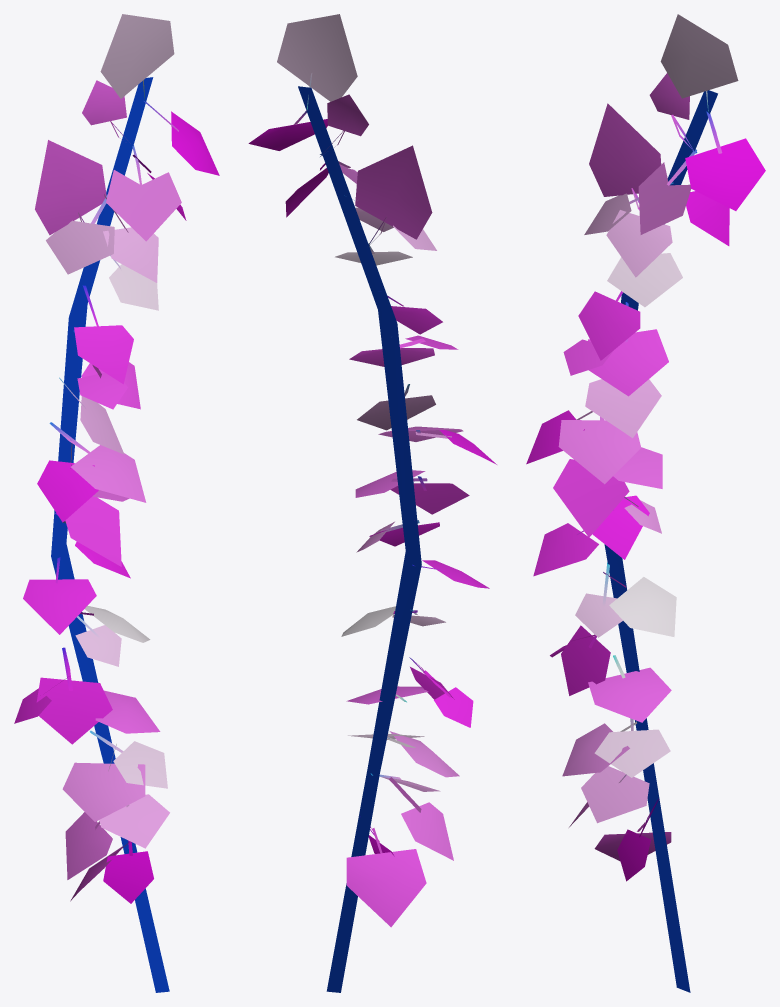
The model's file is English_Ivy_xfcnebhqx_Mid_xfcnebhqx_VarC_LOD2.fbx.
The picture shows the model from 3 angles, left to right: view 1: azimuth 30°, elevation 25°; view 2: azimuth 150°, elevation 25°; view 3: azimuth 330°, elevation 25°; orthographic projection. The views are drawn at different scales.
Visible parts, largest first — view 1: _7v7j_VarC_LOD4; view 2: _7v7j_VarC_LOD4; view 3: _7v7j_VarC_LOD4.
Boxes of the visible parts, x1,y1,x2,y2 form: _7v7j_VarC_LOD4: (14, 14, 219, 992); _7v7j_VarC_LOD4: (248, 14, 496, 992); _7v7j_VarC_LOD4: (526, 14, 765, 992).
Bounding box in the file's own units: 16.43 × 75.78 × 8.92.
